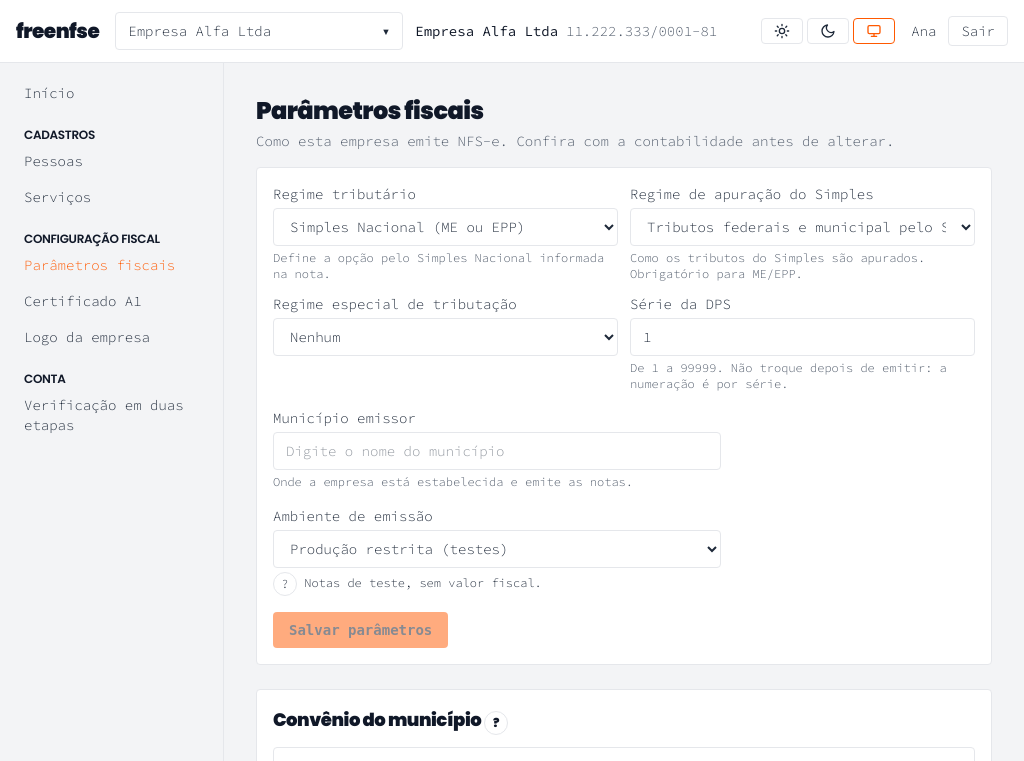
Test: Parâmetros fiscais › mostra o erro de validação do servidor junto do campo
Check: the dropdown labelled "Regime tributário" is shown, box [273,208,618,246]
Replace the text in the number field labelled "Série da DPS" with "9" at (802, 337), box [630,318,975,356]
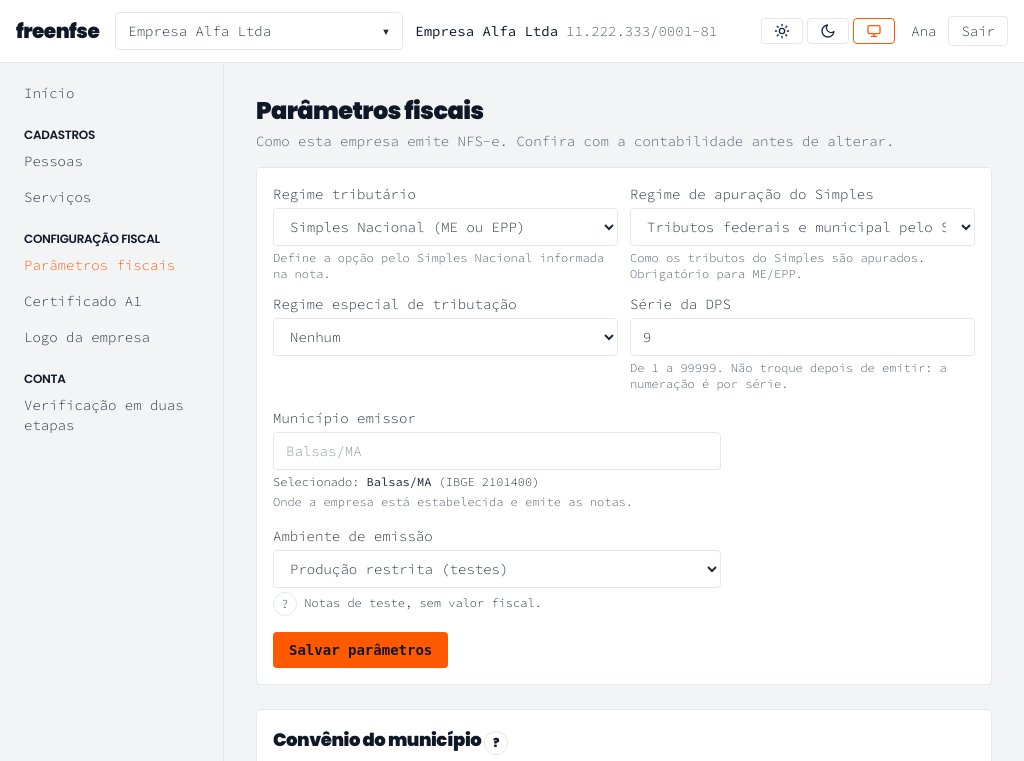
Click the button "Salvar parâmetros" at (361, 650), box [273,632,448,668]
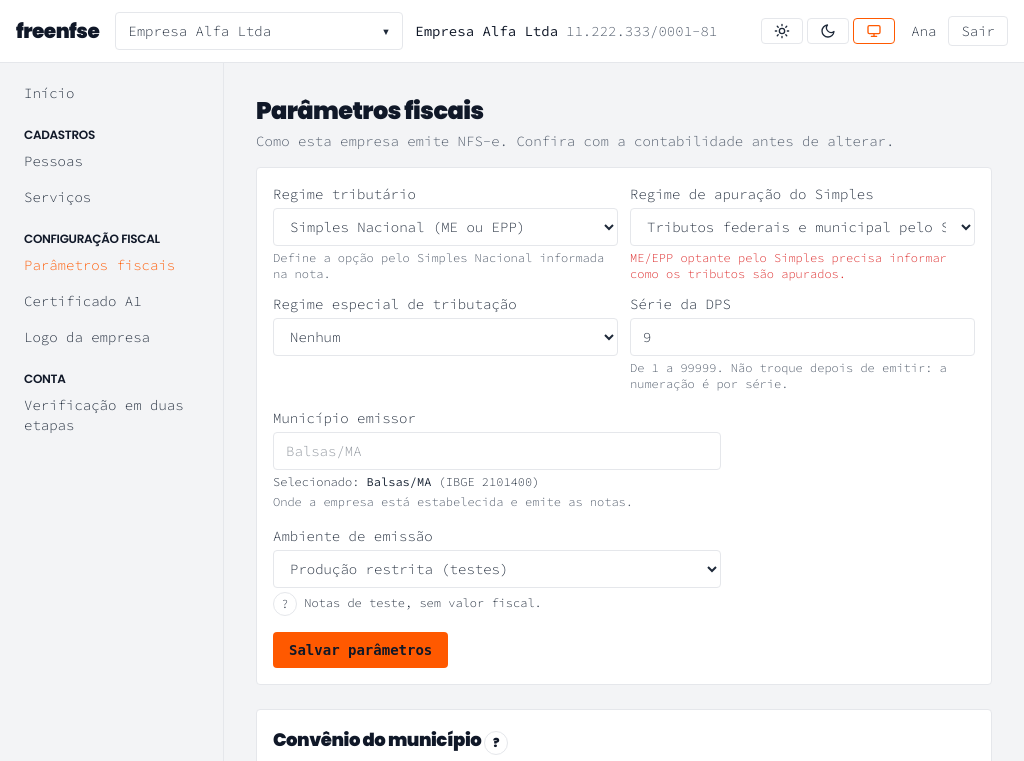
Check: the text "precisa informar como os tributos são apurados" is shown, box [630,250,947,281]
